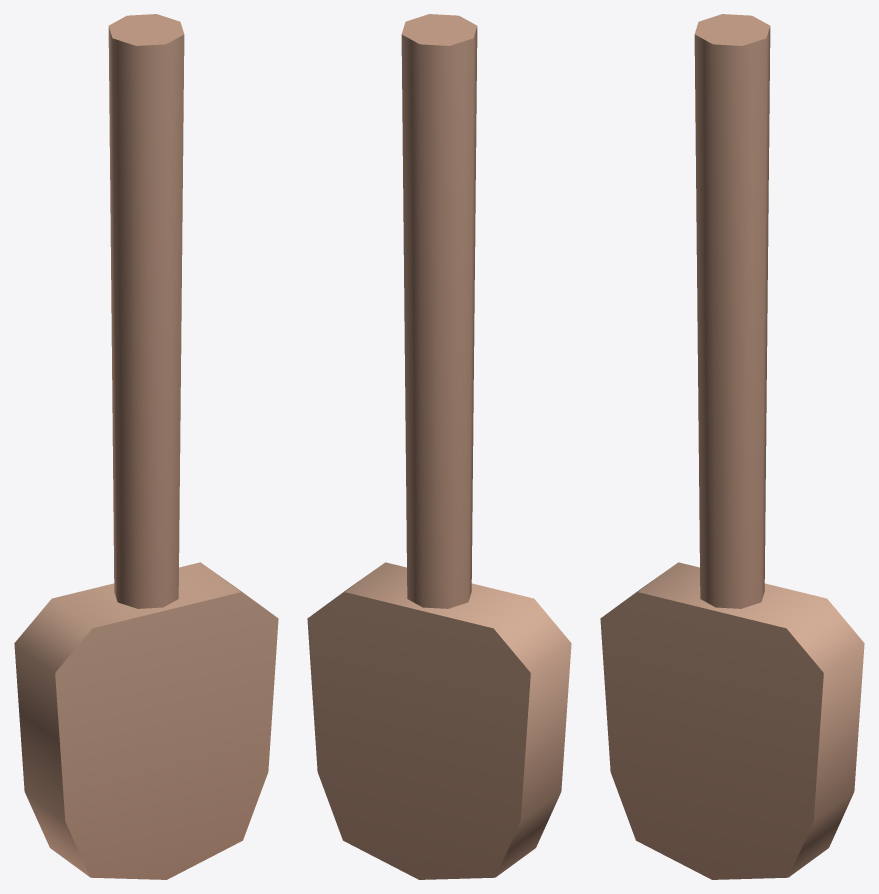
Rendered from tool-paddle.glb.
3 renders of one model, left to right at view 1: azimuth 30°, elevation 25°; view 2: azimuth 150°, elevation 25°; view 3: azimuth 330°, elevation 25°, orthographic.
Parts seen in each view (by area): view 1: tool-paddle; view 2: tool-paddle; view 3: tool-paddle.
Boxes of the visible parts, box(x1,y1,x2,y2) form: tool-paddle: box(14, 14, 278, 879); tool-paddle: box(307, 14, 571, 879); tool-paddle: box(600, 14, 864, 879).
Bounding box in the file's own units: 0.6578 × 2.35 × 0.2075.
